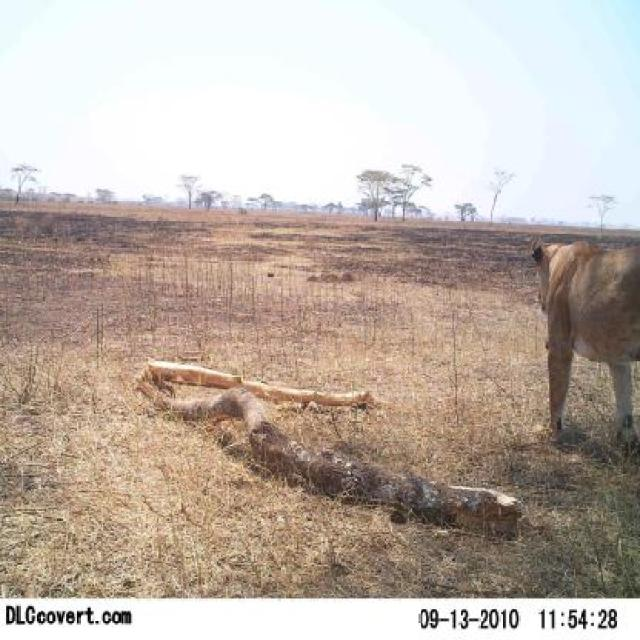Lion: (516, 197, 638, 489)
